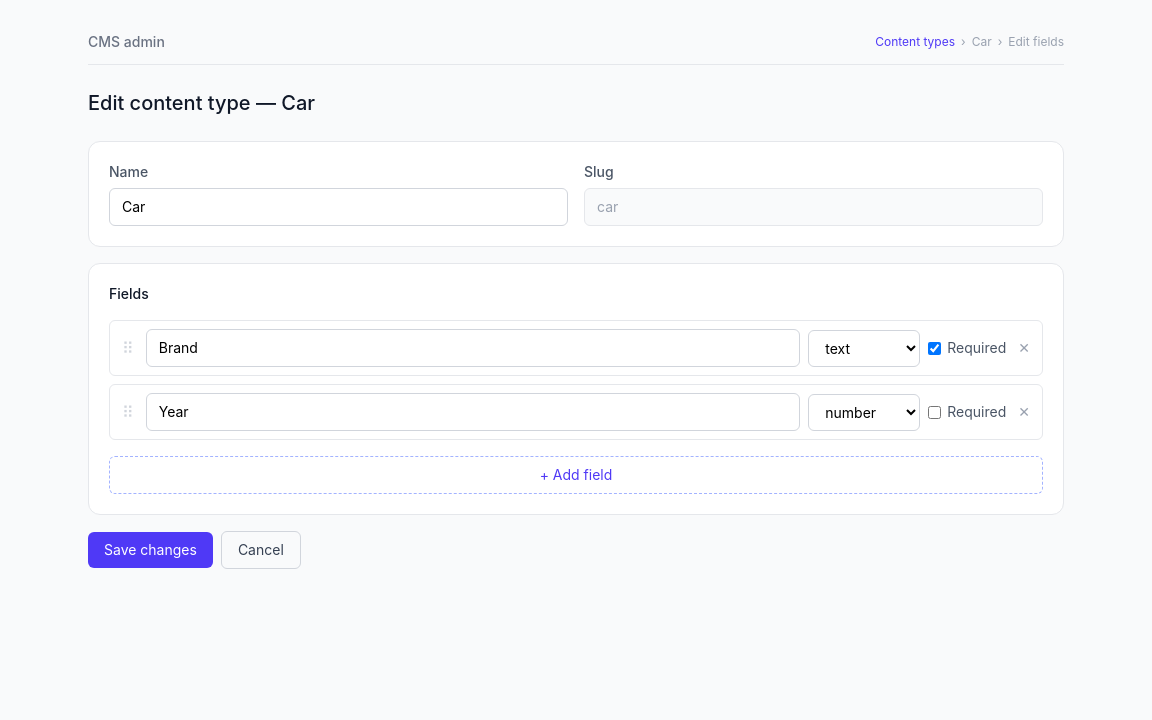
Test: EditContentType — migration flow › closes the modal when Cancel is clicked and does not commit
Expected: the field showing "Car" is shown, [109,188,568,226]
Submit the form, box [88,141,1064,569]
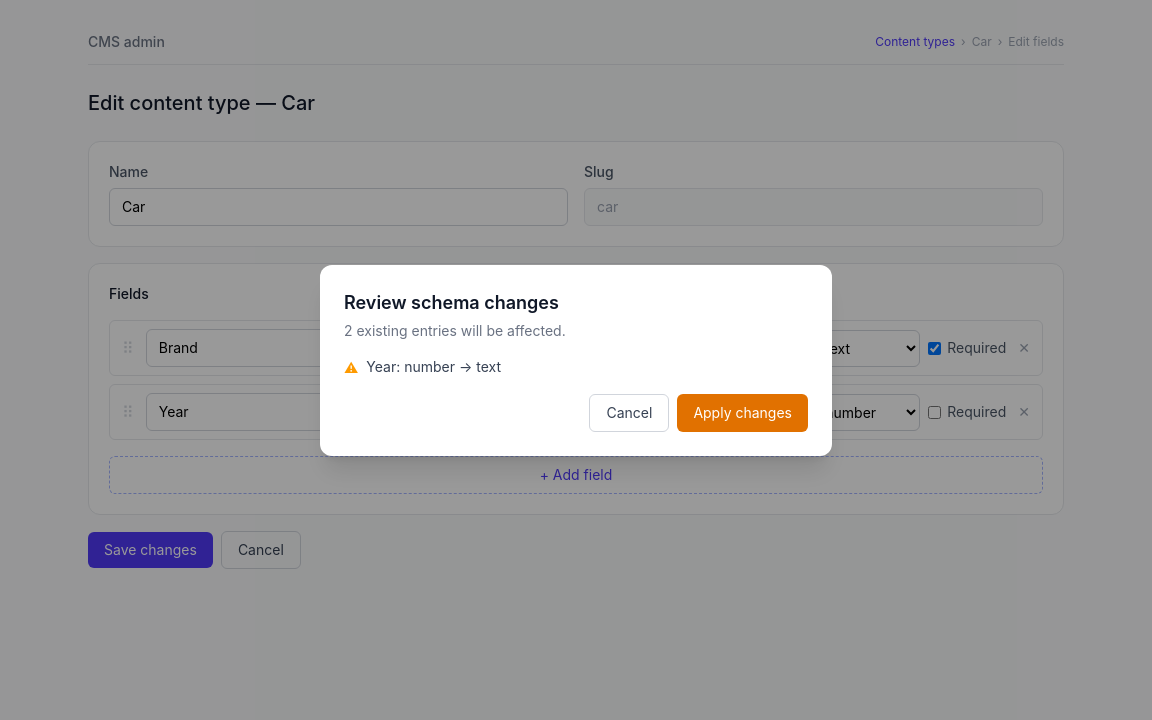
Click the button "Cancel" at (629, 412), box [590,394,669,432]
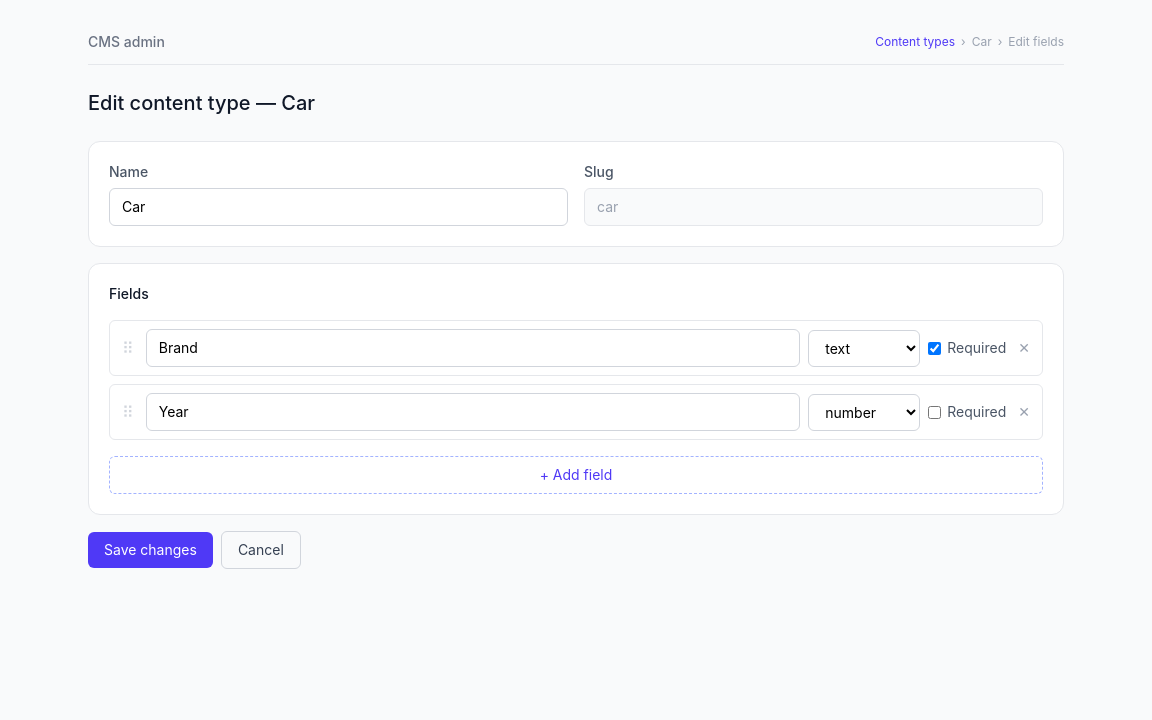
Now the dialog is gone
